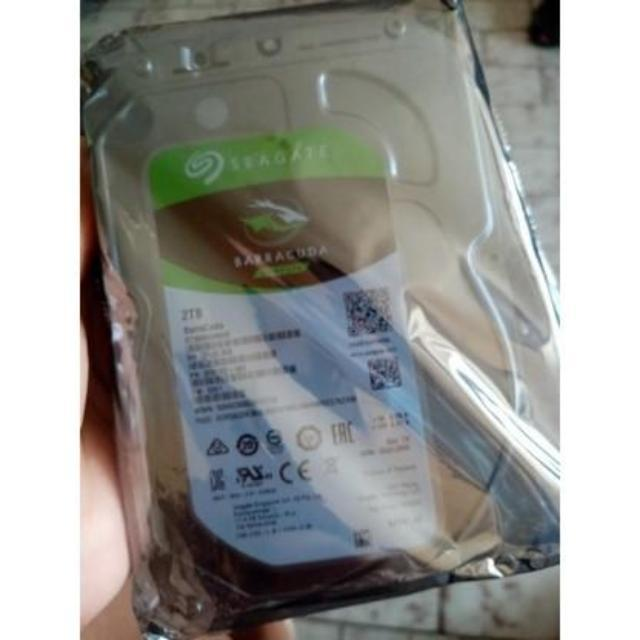DISK: (100, 25, 546, 603)
